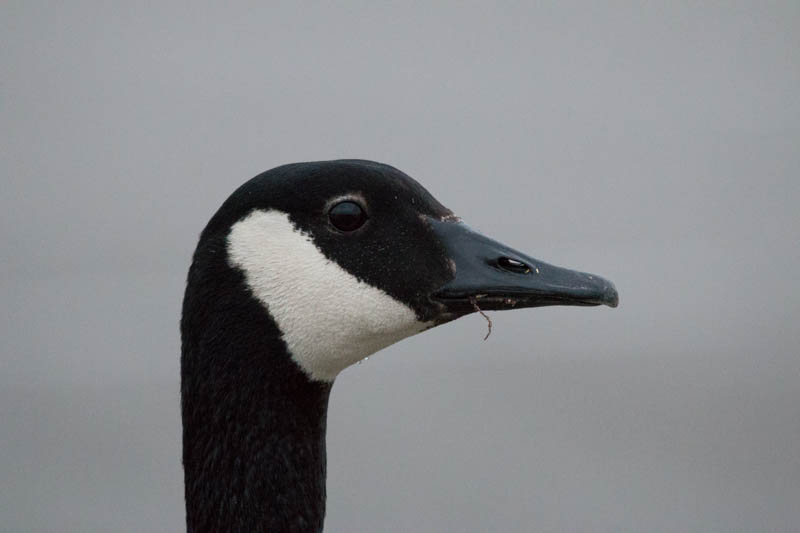goose-head: (182, 158, 619, 380)
